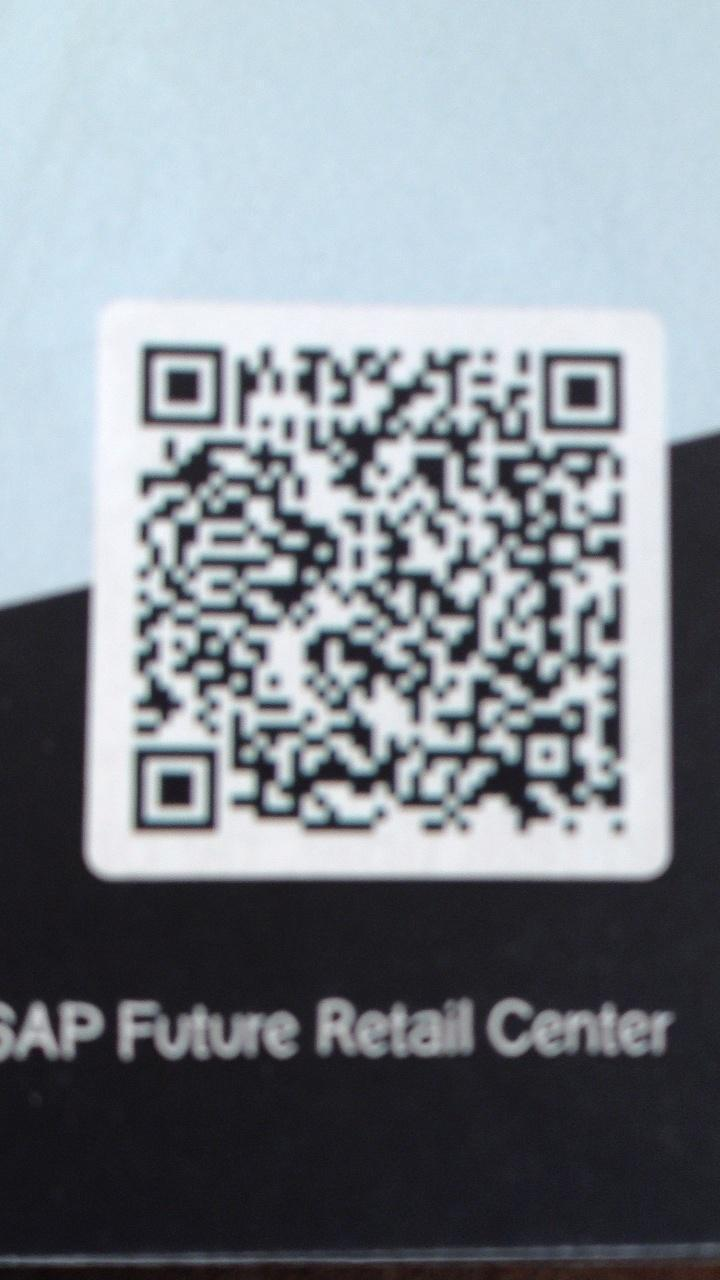qr_code: (133, 343, 627, 837)
